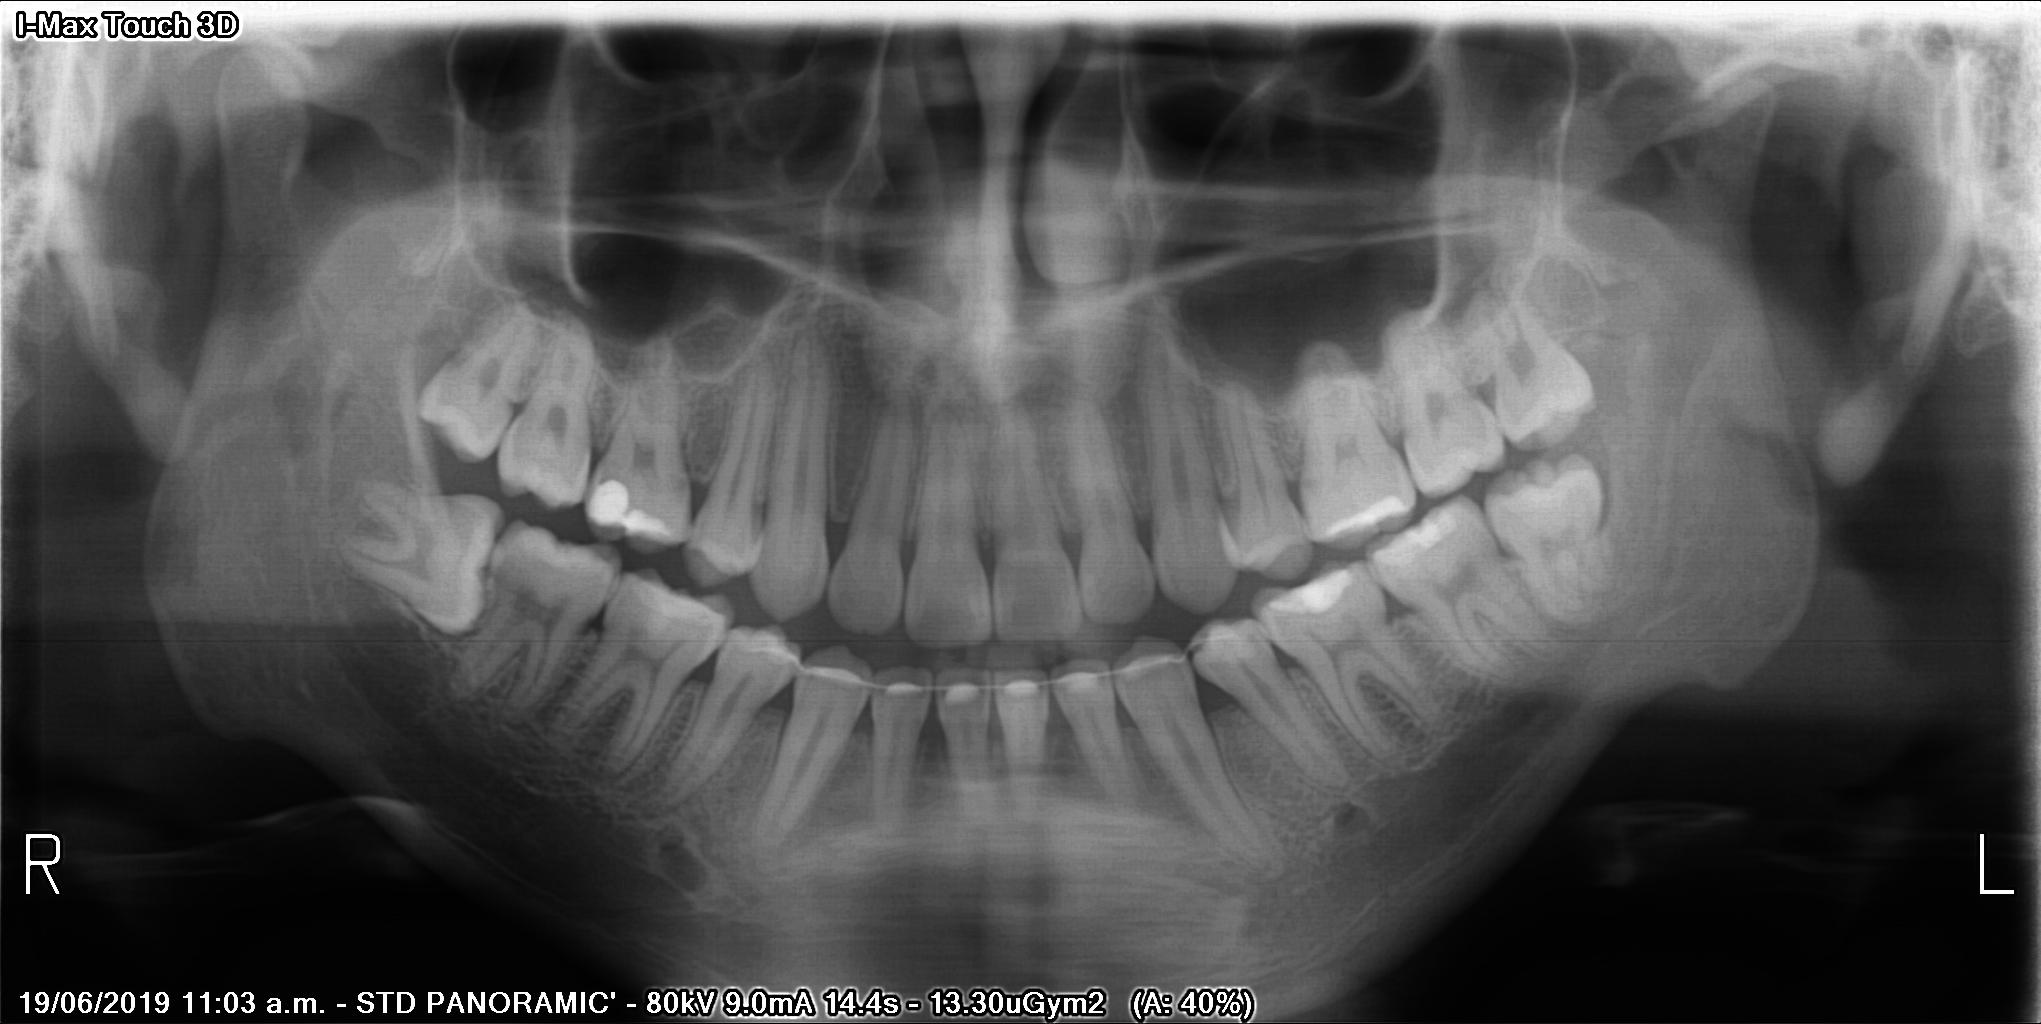Çürük: (1263, 575, 1354, 611), (589, 479, 629, 532)
